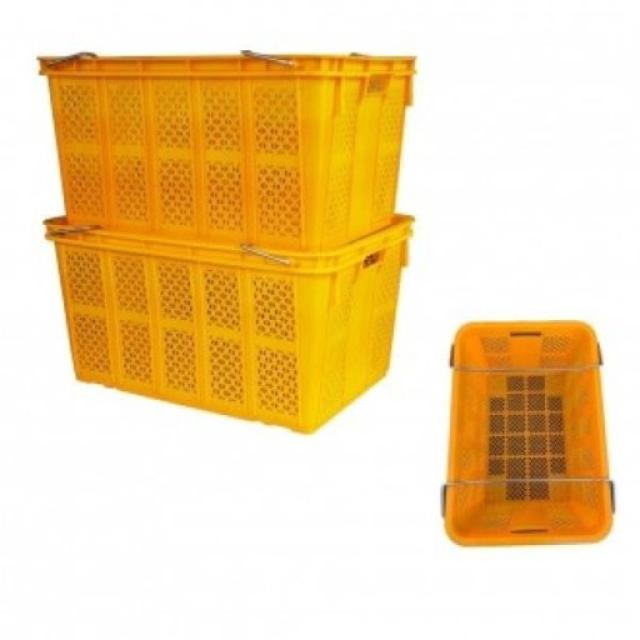basket: (46, 216, 412, 432), (34, 45, 414, 253), (444, 322, 617, 546)
